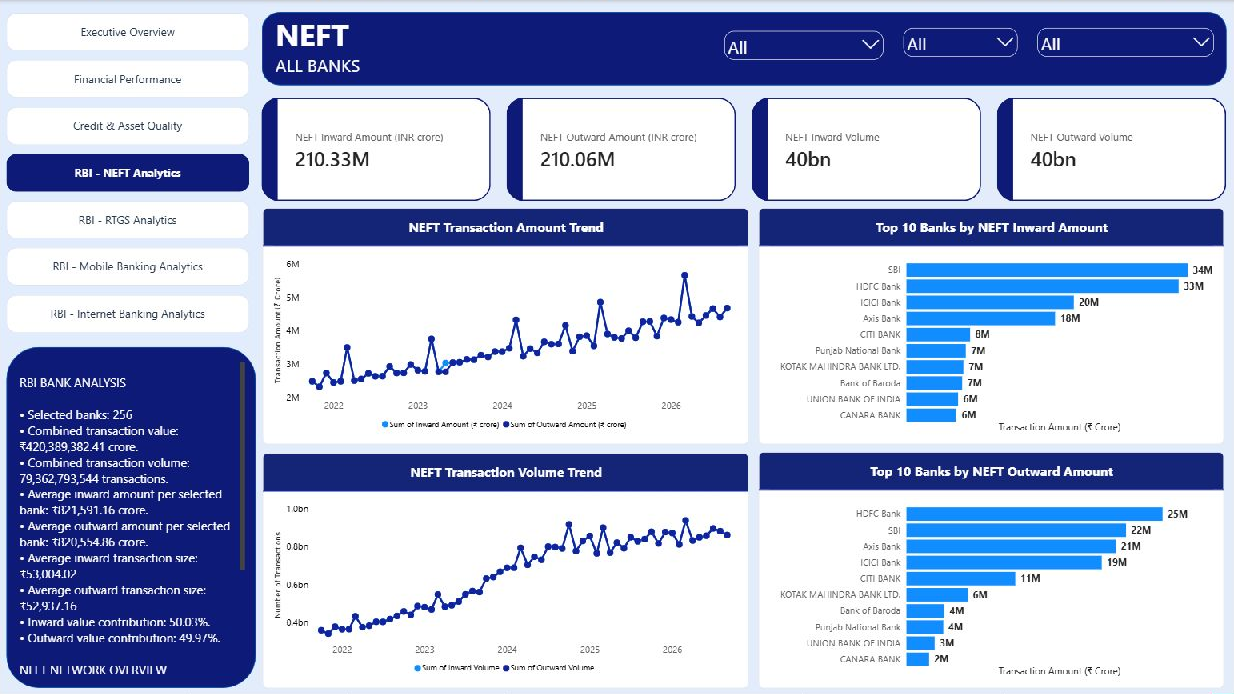

This screenshot's page, from the dashboard's own definition file:
{"tool":"powerbi","page":{"name":"RBI - NEFT Analytics","canvas":[1920,1080],"ordinal":3},"visuals":[{"type":"shape","box":[408,18,1510,114],"z":0},{"type":"slicer","fields":{"Values":["NEFT.Year"]},"box":[1597.3,18.5,304.6,111.1],"z":1000},{"type":"pageNavigator","box":[0,0,408.3,539.3],"z":2000},{"type":"shape","box":[0,540,408,530],"z":3000},{"type":"textbox","box":[31.4,562.9,350,487.1],"z":4000},{"type":"textbox","title":"NEFT","box":[408.5,10.5,703.3,132.7],"z":5000},{"type":"cardVisual","fields":{"Data":["NEFT.NEFT Inward Amount (INR crore)","NEFT.NEFT Outward Amount (INR crore)","NEFT.NEFT Inward Volume","NEFT.NEFT Outward Volume"]},"box":[408,132,1512,190],"z":6000},{"type":"lineChart","title":"NEFT Transaction Amount Trend","fields":{"Category":["NEFT.MonthDate"],"Y":["Sum(NEFT.Inward Amount (₹ crore))","Sum(NEFT.Outward Amount (₹ crore))"]},"box":[408.3,323.3,755.4,367.5],"z":7000},{"type":"lineChart","title":"NEFT Transaction Volume Trend","fields":{"Category":["NEFT.MonthDate"],"Y":["Sum(NEFT.Inward Volume)","Sum(NEFT.Outward Volume)"]},"box":[408.3,704.4,755.4,365.8],"z":8000},{"type":"clusteredBarChart","title":"Top 10 Banks by NEFT Inward Amount","fields":{"Category":["NEFT.Bank Name"],"Y":["Sum(NEFT.Inward Amount (₹ crore))"]},"box":[1179,323.3,723.1,367.5],"z":9000},{"type":"clusteredBarChart","title":"Top 10 Banks by NEFT Outward Amount","fields":{"Category":["NEFT.Bank Name"],"Y":["Sum(NEFT.Outward Amount (₹ crore))"]},"box":[1179,702.6,723.1,367.5],"z":10000},{"type":"slicer","fields":{"Values":["NEFT.Month"]},"box":[1389.4,18.5,207.9,111.1],"z":11000},{"type":"slicer","fields":{"Values":["NEFT.Bank Name"]},"box":[1111,22.7,277,108.1],"z":12000}]}

Visuals, with their boxes in screenshot pixels (x1, y1, x2, y2), scaled from the page's 1920x1080 canvas onto the 1234x694 screenshot:
shape: (262, 12, 1233, 85)
slicer - NEFT.Year: (1027, 12, 1222, 83)
pageNavigator: (0, 0, 262, 347)
shape: (0, 347, 262, 688)
textbox: (20, 362, 245, 675)
"NEFT" textbox: (263, 7, 715, 92)
cardVisual - NEFT.NEFT Inward Amount (INR crore) x NEFT.NEFT Outward Amount (INR crore): (262, 85, 1233, 207)
"NEFT Transaction Amount Trend" lineChart: (262, 208, 748, 444)
"NEFT Transaction Volume Trend" lineChart: (262, 453, 748, 688)
"Top 10 Banks by NEFT Inward Amount" clusteredBarChart: (758, 208, 1222, 444)
"Top 10 Banks by NEFT Outward Amount" clusteredBarChart: (758, 451, 1222, 688)
slicer - NEFT.Month: (893, 12, 1027, 83)
slicer - NEFT.Bank Name: (714, 15, 892, 84)
